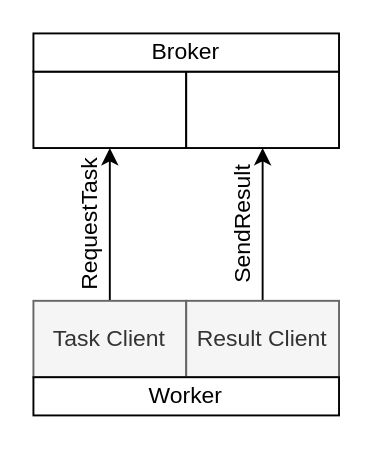
The diagram is 372 pixels wide and 449 high, and some of its shapes have lost their labels. The shapes that lost their labels are listed below. From the top down, each one's centre as x and y in pixels, then its label:
the point at 109,109: Task Stub
the point at 261,109: Result Stub
